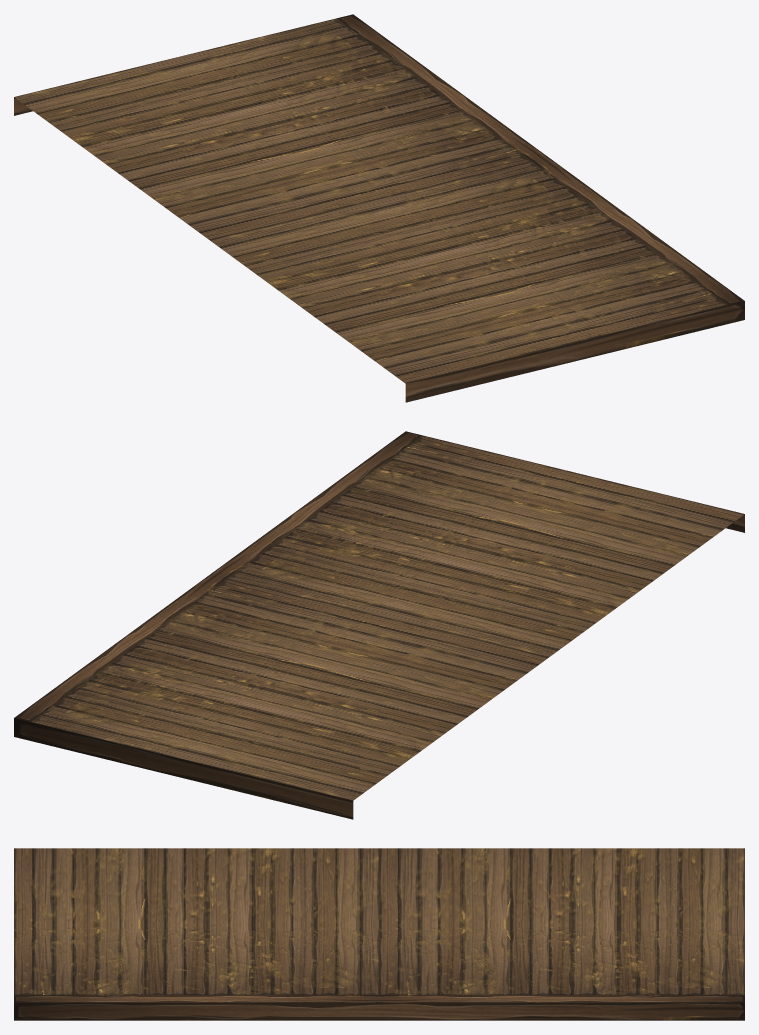
File: Kit_GroundSide_Right.FBX
The picture shows the model from 3 angles, top to bottom: view 1: azimuth 30°, elevation 25°; view 2: azimuth 150°, elevation 25°; view 3: azimuth 270°, elevation 25°; orthographic projection. The views are drawn at different scales.
Parts seen in each view (by area): view 1: Kit_GroundSide_Right; view 2: Kit_GroundSide_Right; view 3: Kit_GroundSide_Right.
Part boxes in pixels (bbox=[...]): Kit_GroundSide_Right: bbox=[14, 14, 744, 402]; Kit_GroundSide_Right: bbox=[14, 431, 744, 819]; Kit_GroundSide_Right: bbox=[14, 848, 744, 1020].
Bounding box in the file's own units: 4.65 × 9.29 × 0.2474.
